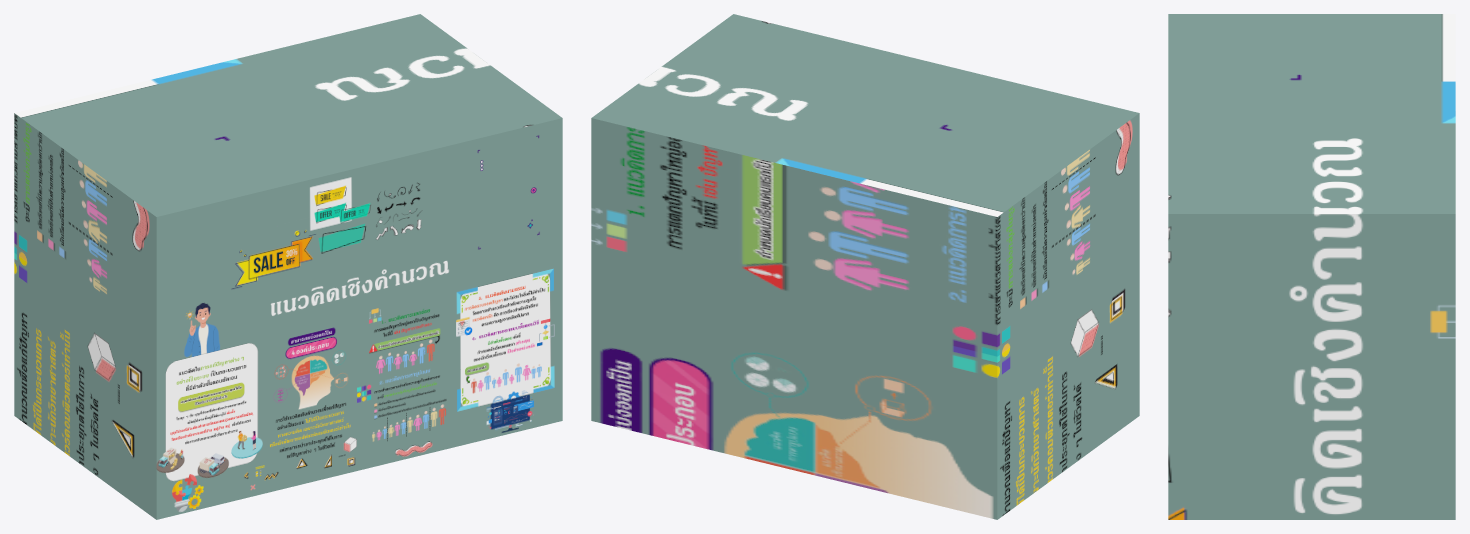
3 views of the same model, side by side, from view 1: azimuth 30°, elevation 25°; view 2: azimuth 150°, elevation 25°; view 3: azimuth 270°, elevation 25° (orthographic).
Visible parts, largest first — view 1: Cube.001; view 2: Cube.001; view 3: Cube.001.
Part boxes in pixels (box(x1,y1,x2,y2)): Cube.001: box(14, 14, 562, 519); Cube.001: box(591, 14, 1139, 519); Cube.001: box(1168, 14, 1455, 519).
Bounding box in the file's own units: 1.4 × 1 × 0.8506.
Materials: 1 (1 with a texture image).
